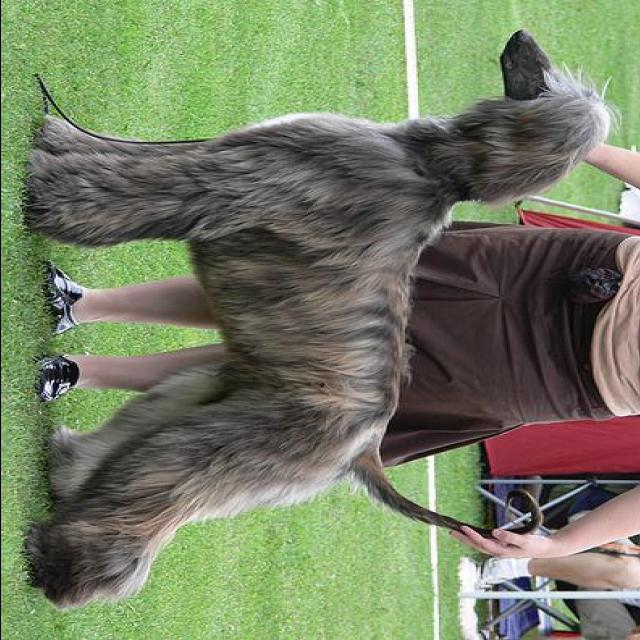afghan_hound: (19, 22, 626, 614)
